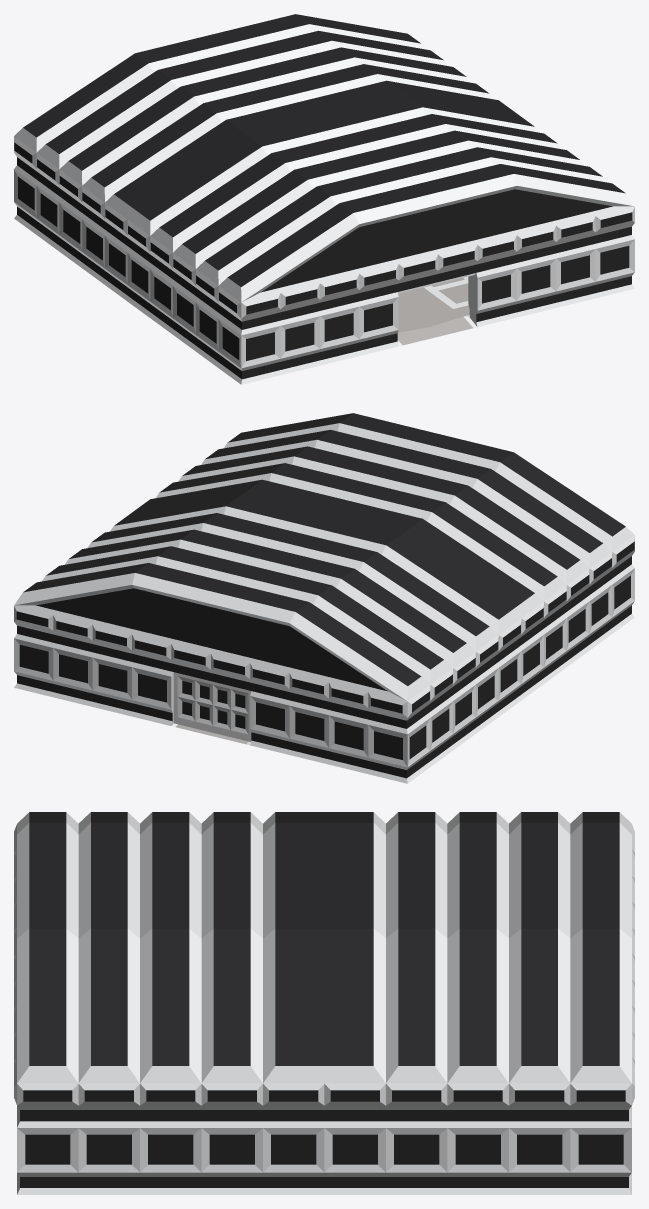
Rendered from warehouse.glb.
The picture shows the model from 3 angles, top to bottom: view 1: azimuth 30°, elevation 25°; view 2: azimuth 150°, elevation 25°; view 3: azimuth 270°, elevation 25°; orthographic projection. The views are drawn at different scales.
Visible parts, largest first — view 1: Warehouse_body; view 2: Warehouse_body, Warehouse_Door.F; view 3: Warehouse_body.
Boxes of the visible parts, bbox=[...] form: Warehouse_body: bbox=[14, 14, 634, 384]; Warehouse_body: bbox=[14, 413, 634, 783]; Warehouse_Door.F: bbox=[173, 672, 251, 741]; Warehouse_body: bbox=[14, 812, 634, 1194].
Size of the model in its own units: 10100 by 3400 by 10100.
Materials: 1 (1 with a texture image).
